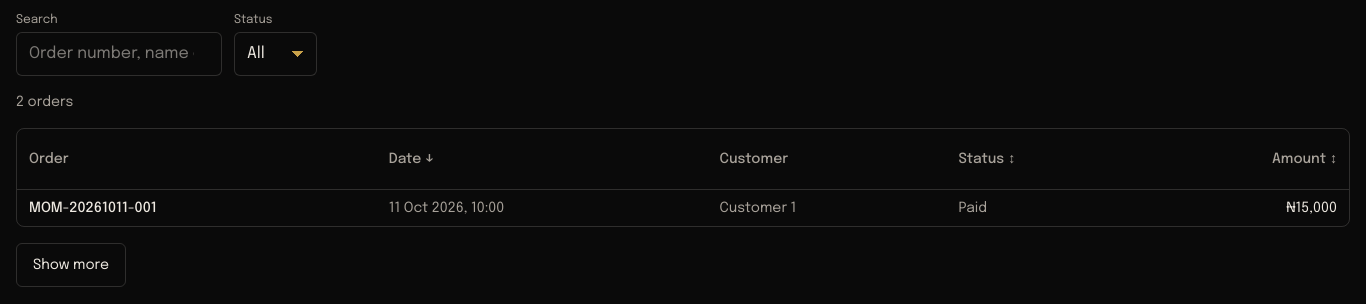
OrderList › loads more on request
Click the button "Show more": {"x": 71, "y": 265} [16, 243, 126, 287]
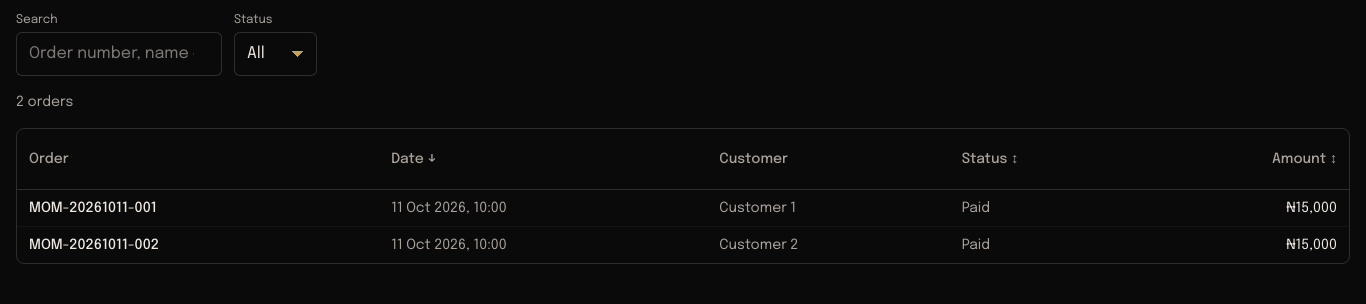
Expected: the link "MOM-20261011-002" is shown, [29, 238, 159, 252]
Expected: the button "Show more" is gone
